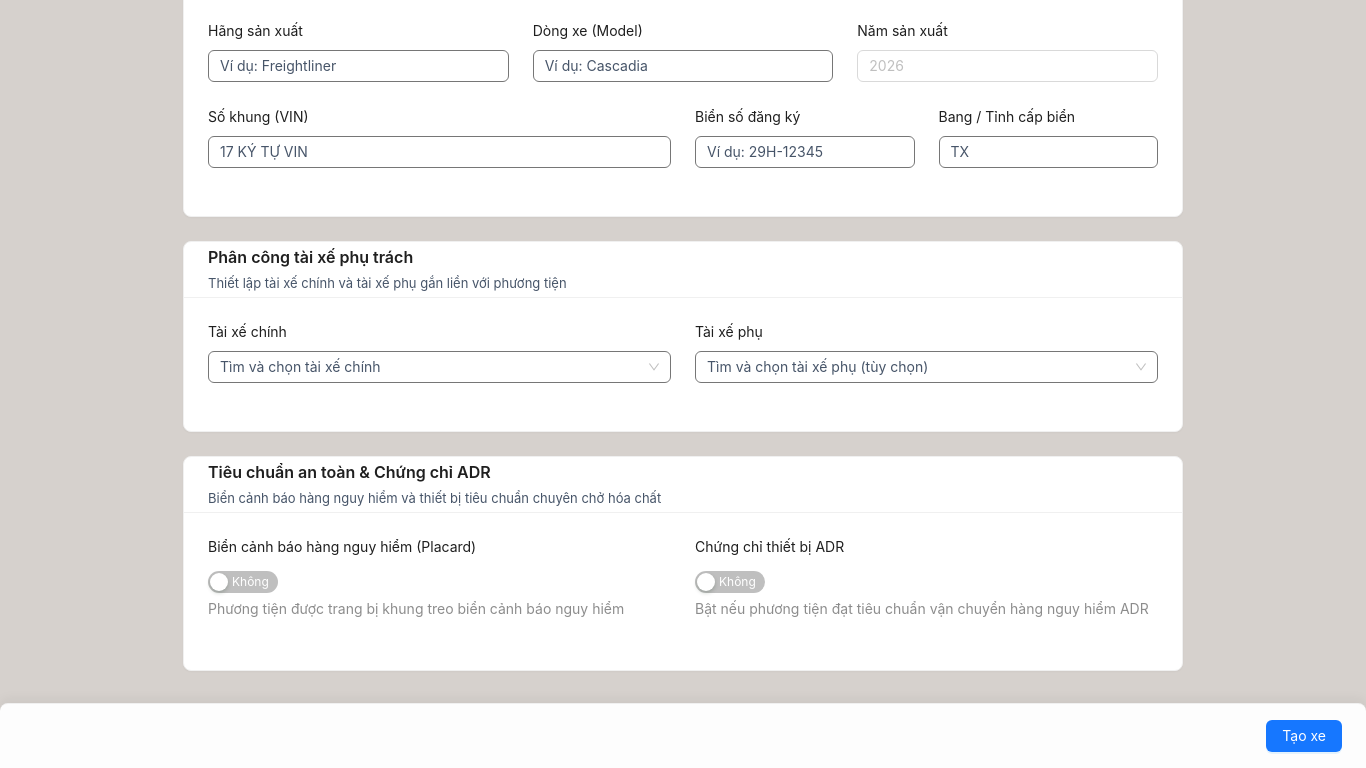
Test case: TruckForm — Tuân thủ quy tắc trang riêng, 2 cột › chỉ hiển thị ô nhập chi tiết ADR khi bật công tắc chứng chỉ ADR
The image size is (1366, 768).
(page scrolled)
expect the field labelled "Phân lớp ADR" is not shown: met
Bật công tắc chứng chỉ ADR (switch thứ 2 trong form)
Click the switch labelled "Đạt Không".
click(730, 582)  # box [695,571,765,593]
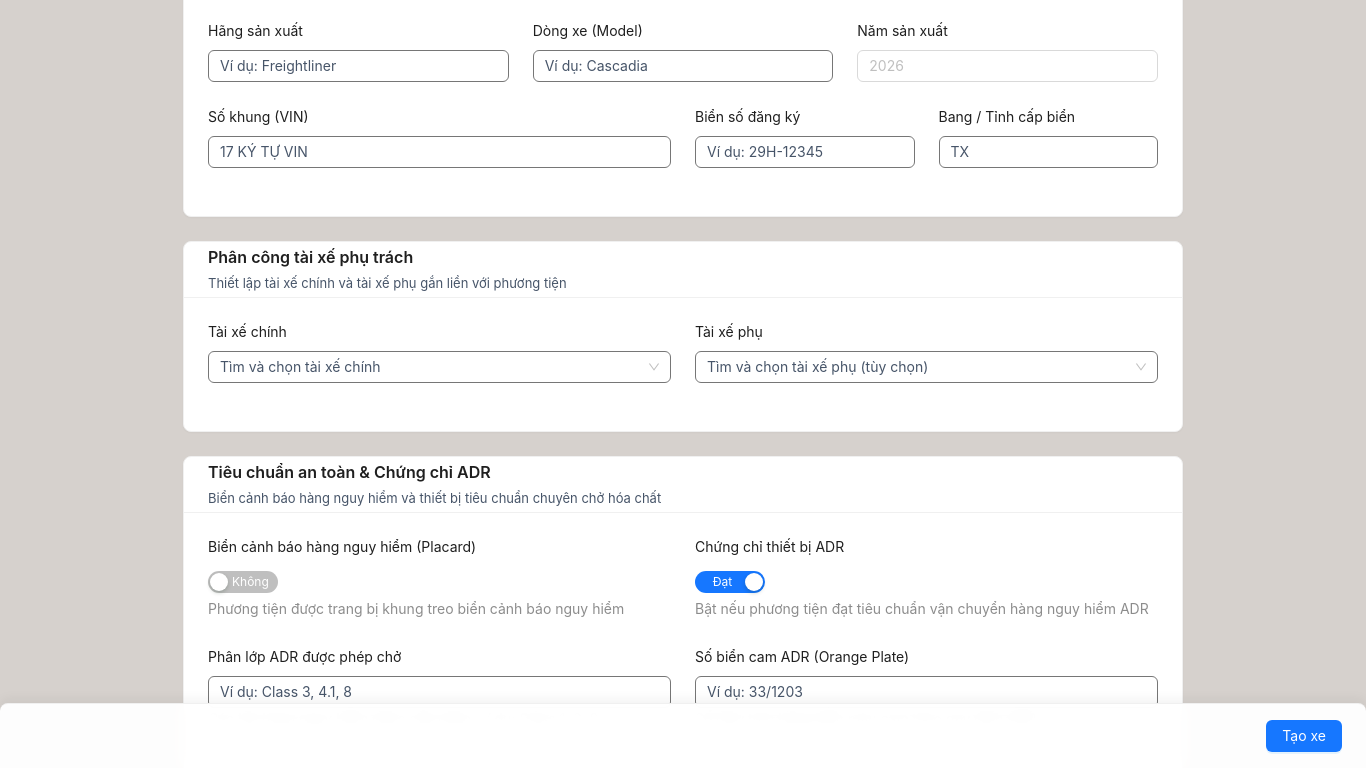
expect the field with placeholder "Ví dụ: Class 3, 4.1, 8" is shown: met, box [208,676,671,708]
expect the field with placeholder "Ví dụ: 33/1203" is shown: met, box [695,676,1158,708]
